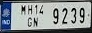character: (61, 7, 68, 24), (52, 8, 59, 24), (71, 7, 77, 23), (79, 7, 85, 23), (20, 4, 26, 15), (27, 4, 32, 15), (27, 17, 32, 27), (33, 17, 38, 27), (34, 4, 38, 14), (39, 4, 43, 14)
